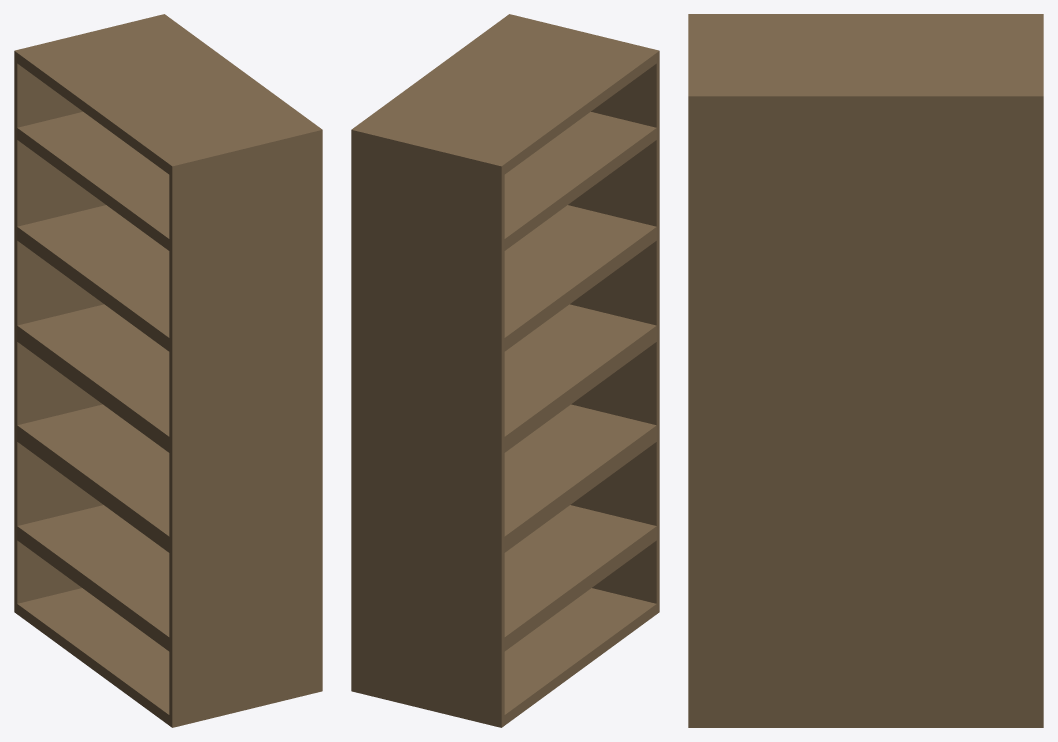
The model's file is BookShelf.fbx.
3 views of the same model, side by side, from view 1: azimuth 30°, elevation 25°; view 2: azimuth 150°, elevation 25°; view 3: azimuth 270°, elevation 25° (orthographic). The views are drawn at different scales.
Parts seen in each view (by area): view 1: BookShelf; view 2: BookShelf; view 3: BookShelf.
Boxes of the visible parts, left/top/right/bottom form: BookShelf: left=14, top=14, right=322, bottom=727; BookShelf: left=351, top=14, right=659, bottom=727; BookShelf: left=688, top=14, right=1043, bottom=727.
Bounding box in the file's own units: 23.38 × 83.46 × 42.6.
